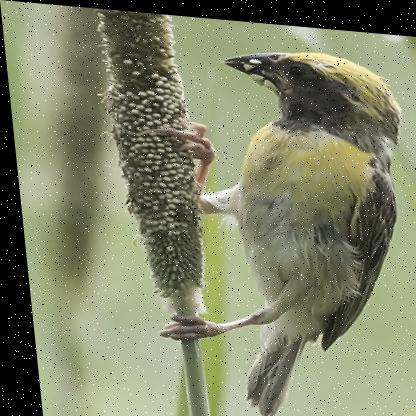Burung: (128, 32, 415, 415)
